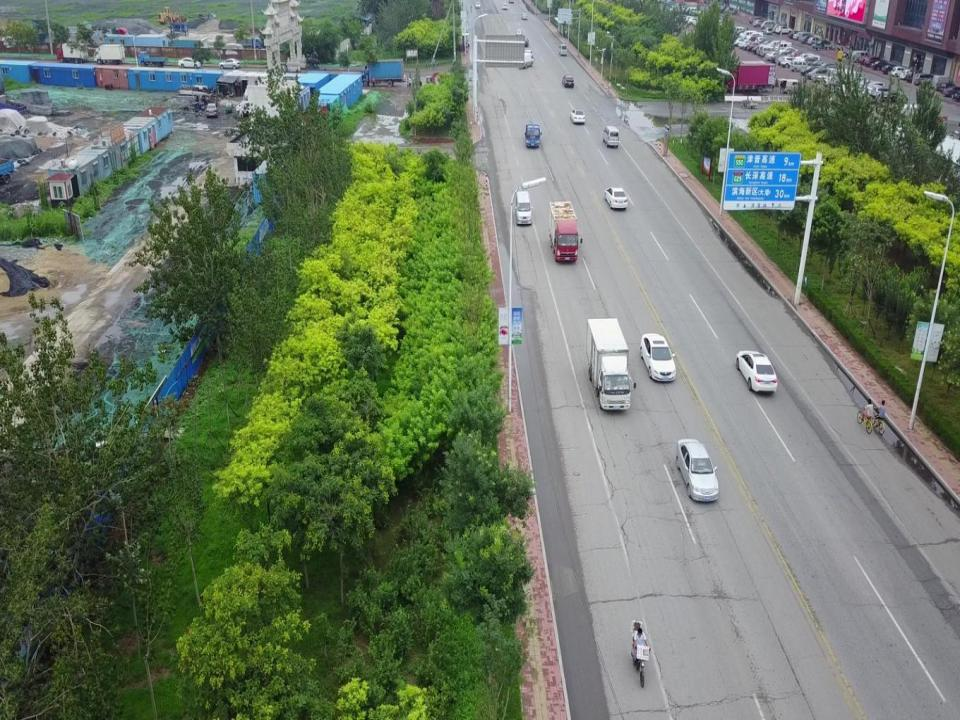car: (676, 439, 718, 502), (736, 349, 777, 393), (640, 332, 676, 382), (604, 186, 627, 209), (883, 90, 908, 102), (178, 58, 201, 70), (218, 57, 240, 69), (866, 81, 885, 94), (872, 86, 892, 98), (914, 74, 934, 86), (781, 56, 800, 68), (206, 103, 220, 118), (570, 109, 584, 124), (890, 66, 909, 76), (907, 71, 924, 82), (941, 83, 956, 94), (900, 69, 915, 79), (562, 74, 574, 86), (944, 86, 956, 96), (523, 50, 533, 61), (520, 38, 530, 46), (515, 28, 522, 39), (522, 12, 527, 20), (475, 2, 481, 8), (502, 4, 508, 9)
truck: (586, 318, 636, 410), (548, 200, 582, 260), (726, 60, 775, 93), (360, 58, 403, 86), (56, 42, 89, 64), (94, 44, 125, 64), (136, 52, 168, 66), (235, 35, 262, 51), (525, 124, 542, 148)
van: (515, 190, 533, 226), (601, 125, 619, 148), (779, 78, 801, 94), (932, 76, 954, 90), (518, 54, 534, 68), (791, 60, 809, 72), (558, 44, 567, 56)
